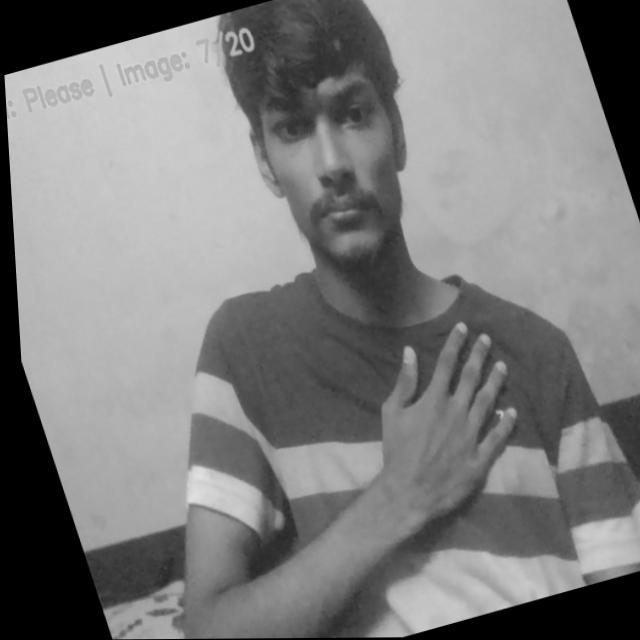Please: (316, 310, 545, 550)
